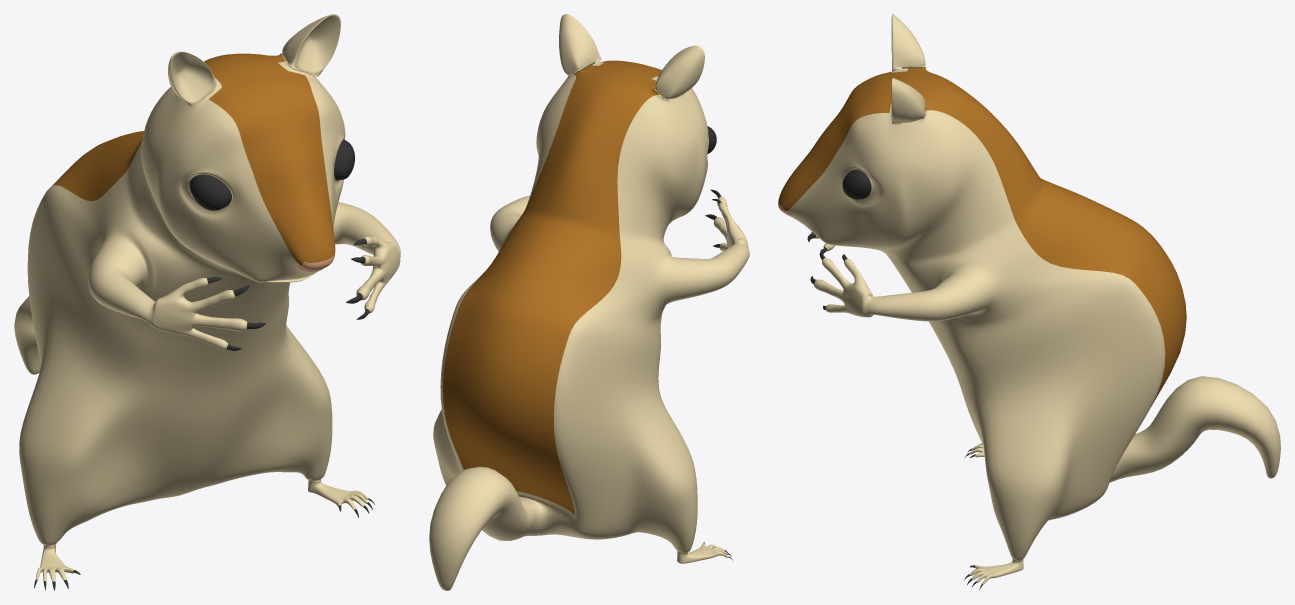
File: squirrel.fbx
3 renders of one model, left to right at view 1: azimuth 30°, elevation 25°; view 2: azimuth 150°, elevation 25°; view 3: azimuth 270°, elevation 25°, orthographic. The views are drawn at different scales.
Parts seen in each view (by area): view 1: body; view 2: body; view 3: body.
Boxes of the visible parts, x1,y1,x2,y2 form: body: (14, 14, 400, 590); body: (429, 14, 749, 590); body: (778, 14, 1280, 590).
Size of the model in its own units: 16.62 by 25.66 by 24.74.
